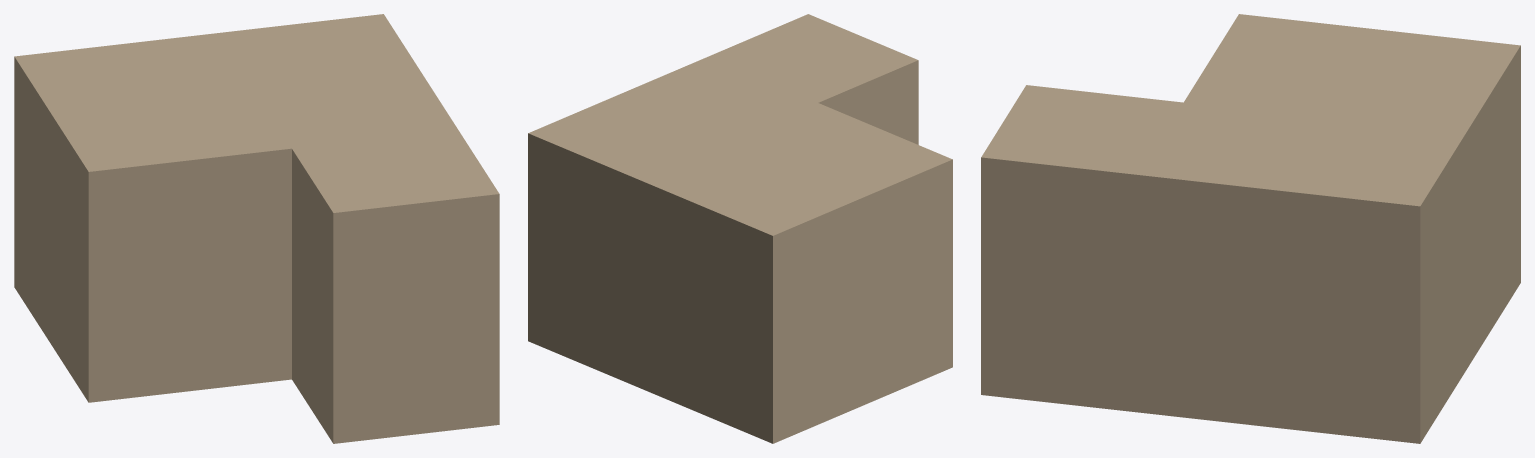
Rendered from bld_101524515.dae.
The picture shows the model from 3 angles, left to right: view 1: azimuth 30°, elevation 25°; view 2: azimuth 150°, elevation 25°; view 3: azimuth 270°, elevation 25°; orthographic projection. The views are drawn at different scales.
Parts seen in each view (by area): view 1: bld_101524515; view 2: bld_101524515; view 3: bld_101524515.
Part boxes in pixels (box(x1,y1,x2,y2)): bld_101524515: box(14, 14, 499, 443); bld_101524515: box(528, 14, 952, 443); bld_101524515: box(981, 14, 1520, 443).
Bounding box in the file's own units: 13.9 × 16.47 × 8.
